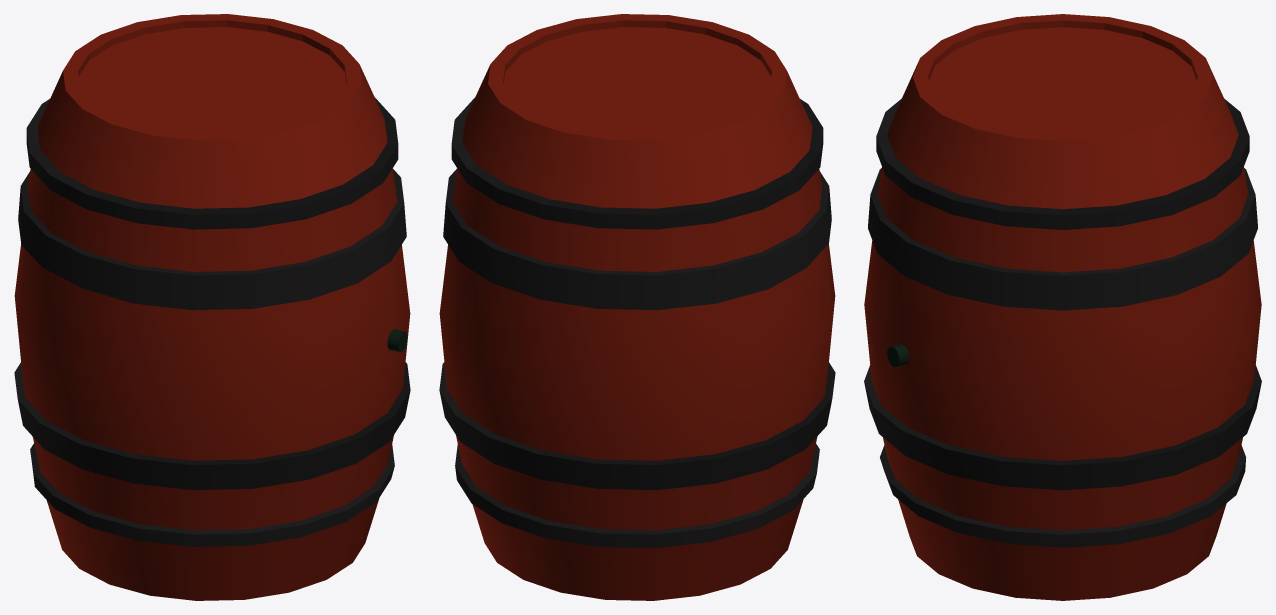
Rendered from Barrel.fbx.
The picture shows the model from 3 angles, left to right: view 1: azimuth 30°, elevation 25°; view 2: azimuth 150°, elevation 25°; view 3: azimuth 270°, elevation 25°; orthographic projection.
Visible parts, largest first — view 1: polySurface4 (×2); view 2: polySurface4 (×2); view 3: polySurface4 (×2).
Boxes of the visible parts, <box> form: polySurface4 (×2): <box>14,14,410,600</box>; polySurface4 (×2): <box>439,14,835,600</box>; polySurface4 (×2): <box>864,14,1261,600</box>.
Size of the model in its own units: 2.59 by 3.3 by 2.59.
